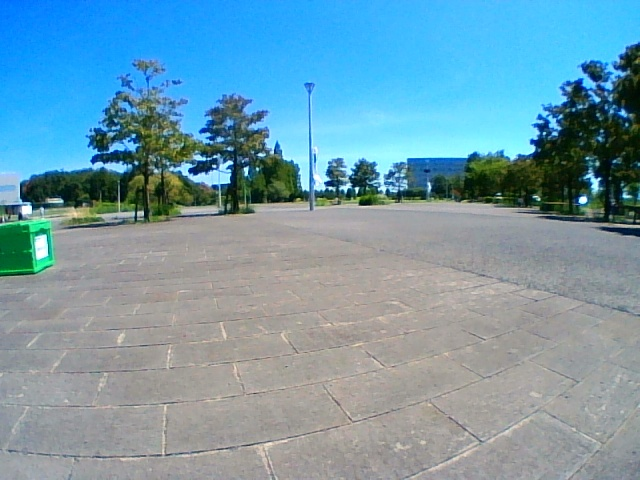green_box: (1, 220, 54, 276)
